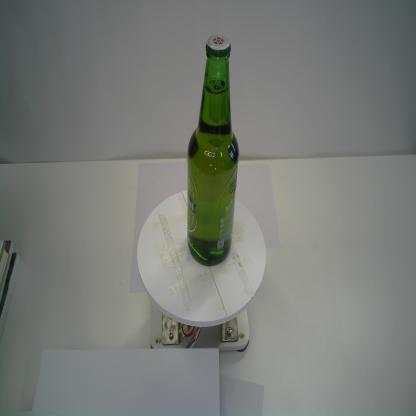Alcohol: (186, 33, 239, 267)
